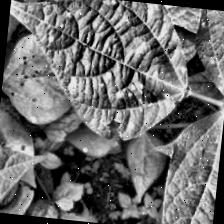Bean Rust: (0, 0, 196, 147), (158, 103, 224, 224), (0, 131, 44, 216), (67, 120, 118, 159)
